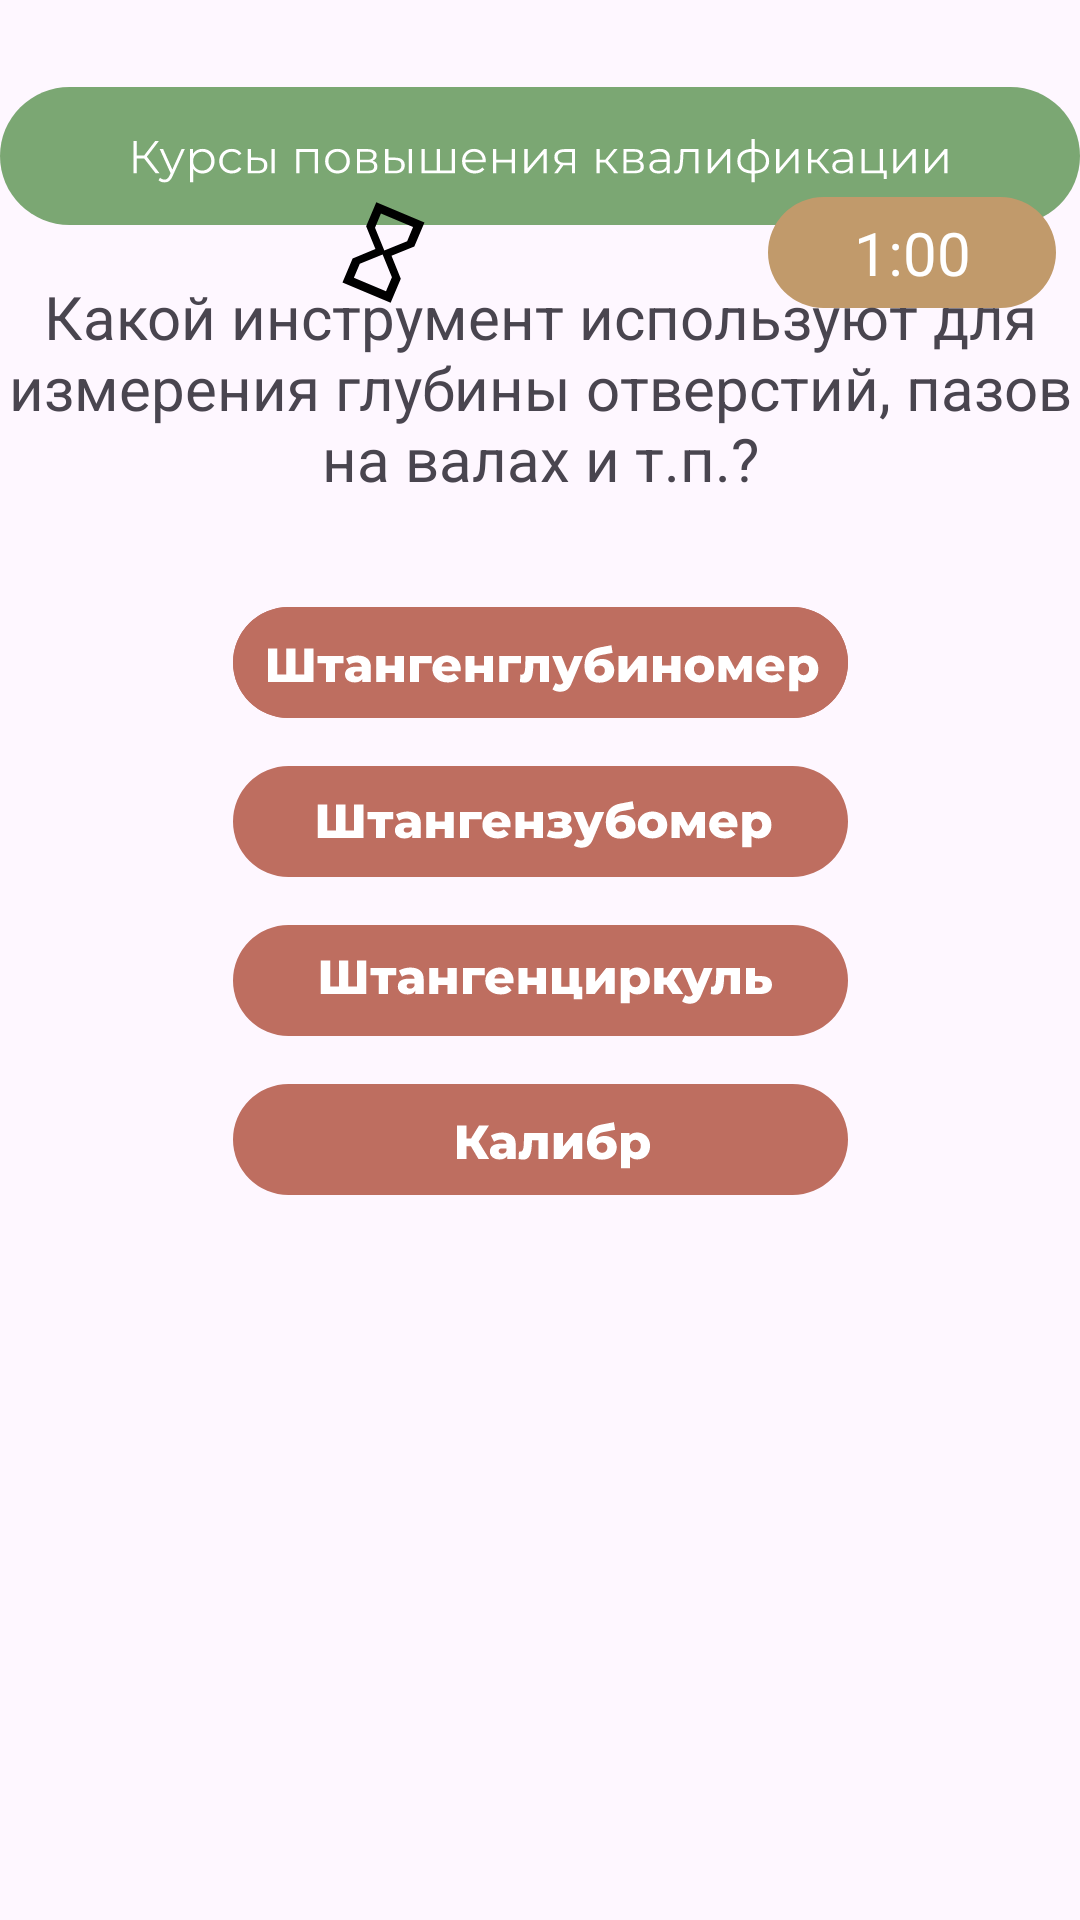

Named icons in this screenshot (1080px x 1920px) and their centers, (x,y):
time: (384,253)
